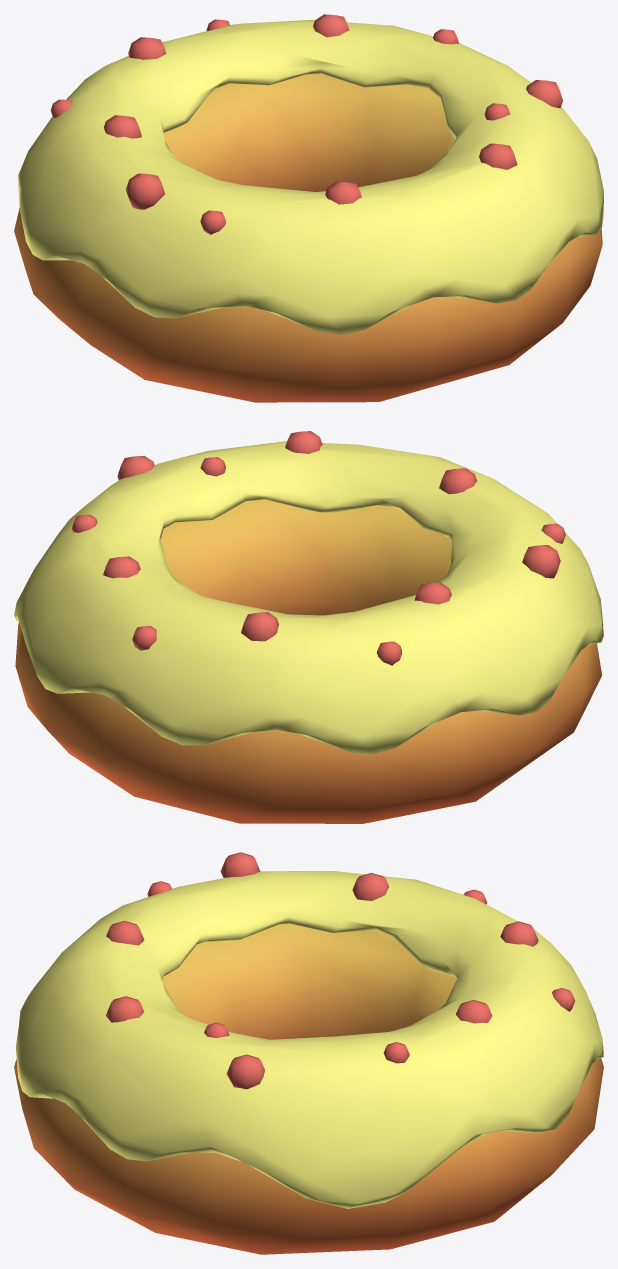
The model's file is Donut-3.fbx.
3 renders of one model, top to bottom at view 1: azimuth 30°, elevation 25°; view 2: azimuth 150°, elevation 25°; view 3: azimuth 270°, elevation 25°, orthographic.
Visible parts, largest first — view 1: Donut-3; view 2: Donut-3; view 3: Donut-3.
Part boxes in pixels (<box>): Donut-3: <box>14,14,603,402</box>; Donut-3: <box>14,431,603,823</box>; Donut-3: <box>14,852,603,1254</box>.
Size of the model in its own units: 50.32 by 19.68 by 49.97.
